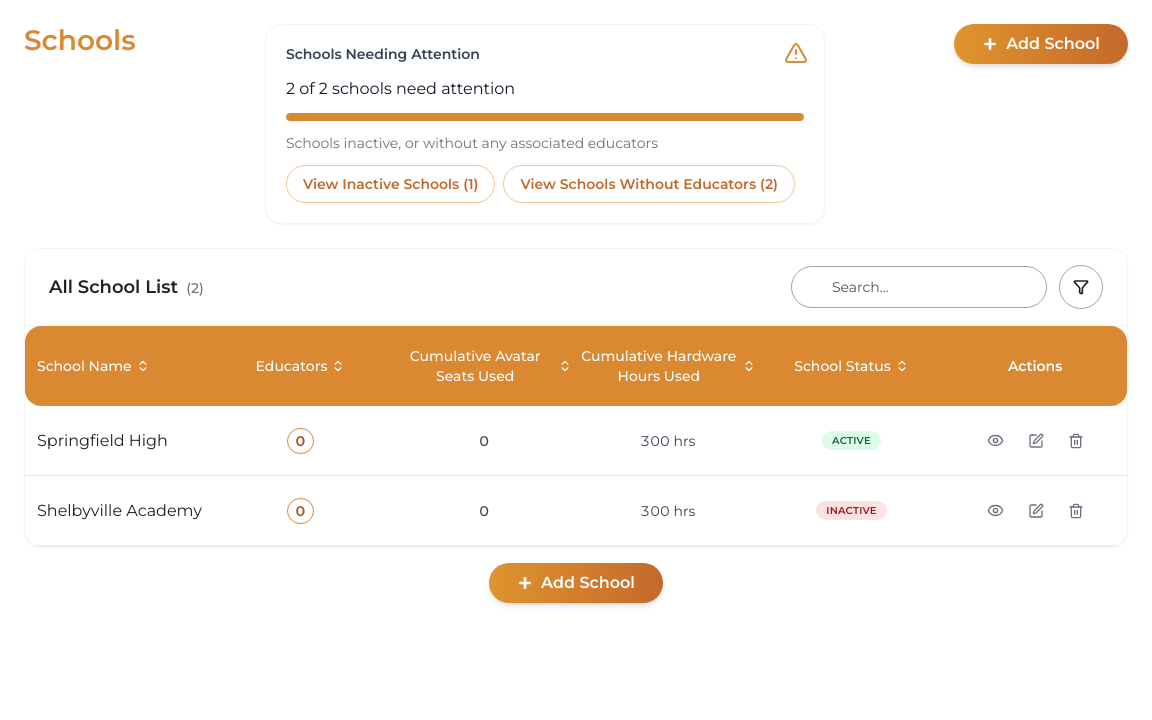
Edit School › opens Edit School modal when edit icon is clicked
Click the button with class "lucide-square-pen": {"x": 1036, "y": 440} [1022,426,1050,454]
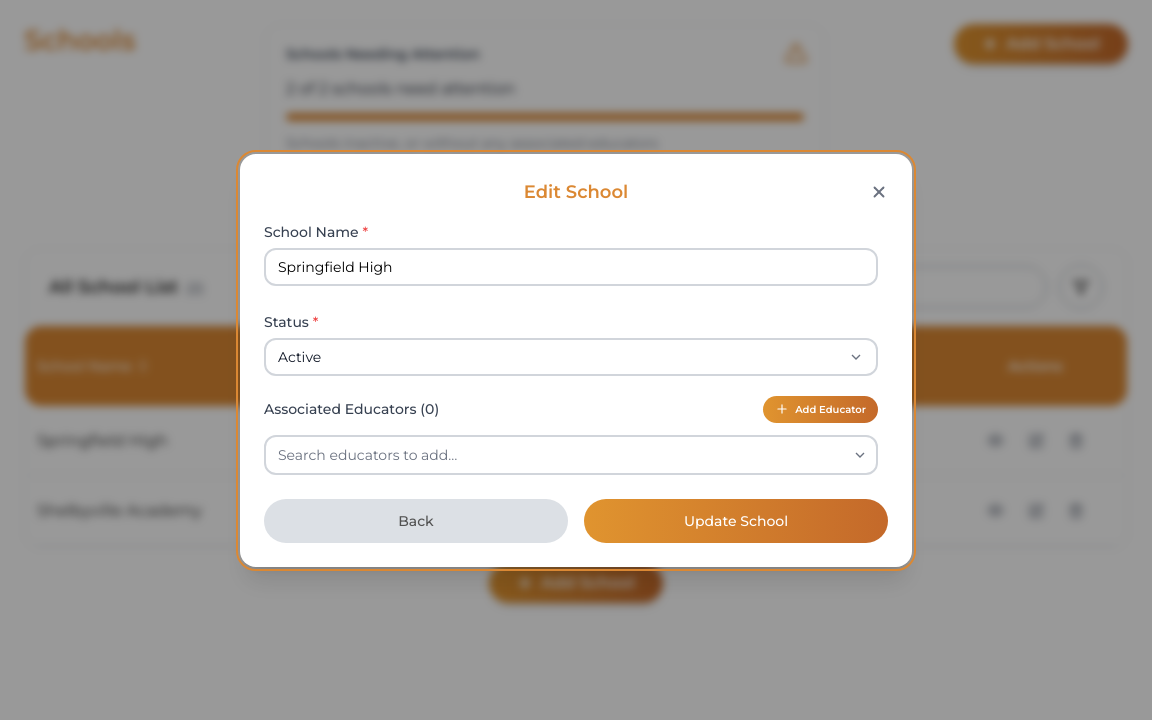
Expected: the heading "Edit School" is shown, [524,178,628,206]
